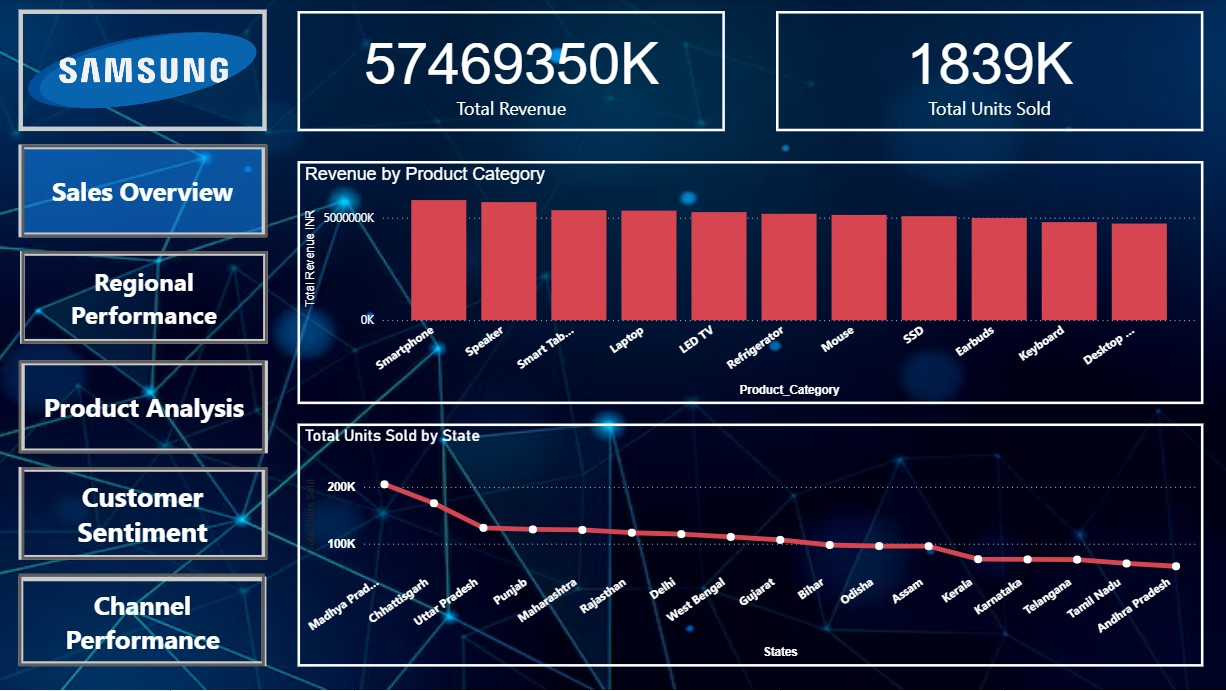

The dashboard page shown, as its layout file describes it:
{"tool":"powerbi","page":{"name":"Sales Overview","canvas":[1280,720],"ordinal":0},"visuals":[{"type":"shape","box":[20,151.7,258.3,96.7],"z":0},{"type":"image","box":[20,11.7,258.3,126.7],"z":1000},{"type":"shape","box":[21.7,263.3,258.3,96.7],"z":2000},{"type":"shape","box":[21.7,376.7,258.3,96.7],"z":3000},{"type":"shape","box":[20,601.7,258.3,93.3],"z":4000},{"type":"shape","box":[20,488.3,258.3,96.7],"z":5000},{"type":"actionButton","box":[23.3,151.7,256.7,96.7],"z":6000},{"type":"actionButton","box":[23.3,263.3,256.7,96.7],"z":7000},{"type":"actionButton","box":[20,376.7,256.7,96.7],"z":8000},{"type":"actionButton","box":[23.3,488.3,256.7,96.7],"z":9000},{"type":"actionButton","box":[20,598.3,256.7,96.7],"z":10000},{"type":"card","fields":{"Values":["Sum(Sheet.Revenue_INR)"]},"box":[311,12.5,445.5,125],"z":11000},{"type":"card","fields":{"Values":["Sum(Sheet.Units_Sold)"]},"box":[809.6,12.5,445.5,125],"z":12000},{"type":"columnChart","title":"Revenue by Product Category","fields":{"Category":["Sheet.Product_Category"],"Y":["Sum(Sheet.Revenue_INR)"]},"box":[311,168.8,944,253.2],"z":13000},{"type":"lineChart","fields":{"Category":["Sheet.State"],"Y":["Sum(Sheet.Units_Sold)"]},"box":[311,442.3,944,253.2],"z":14000}]}

Visuals, with their boxes in screenshot pixels (x1, y1, x2, y2), scaled from the page's 1280x720 canvas onto the 1226x691 screenshot:
shape: left=19, top=146, right=267, bottom=238
image: left=19, top=11, right=267, bottom=133
shape: left=21, top=253, right=268, bottom=346
shape: left=21, top=362, right=268, bottom=454
shape: left=19, top=577, right=267, bottom=667
shape: left=19, top=469, right=267, bottom=561
actionButton: left=22, top=146, right=268, bottom=238
actionButton: left=22, top=253, right=268, bottom=346
actionButton: left=19, top=362, right=265, bottom=454
actionButton: left=22, top=469, right=268, bottom=561
actionButton: left=19, top=574, right=265, bottom=667
card - Sum(Sheet.Revenue_INR): left=298, top=12, right=725, bottom=132
card - Sum(Sheet.Units_Sold): left=775, top=12, right=1202, bottom=132
"Revenue by Product Category" columnChart: left=298, top=162, right=1202, bottom=405
lineChart - Sheet.State x Sum(Sheet.Units_Sold): left=298, top=424, right=1202, bottom=667
